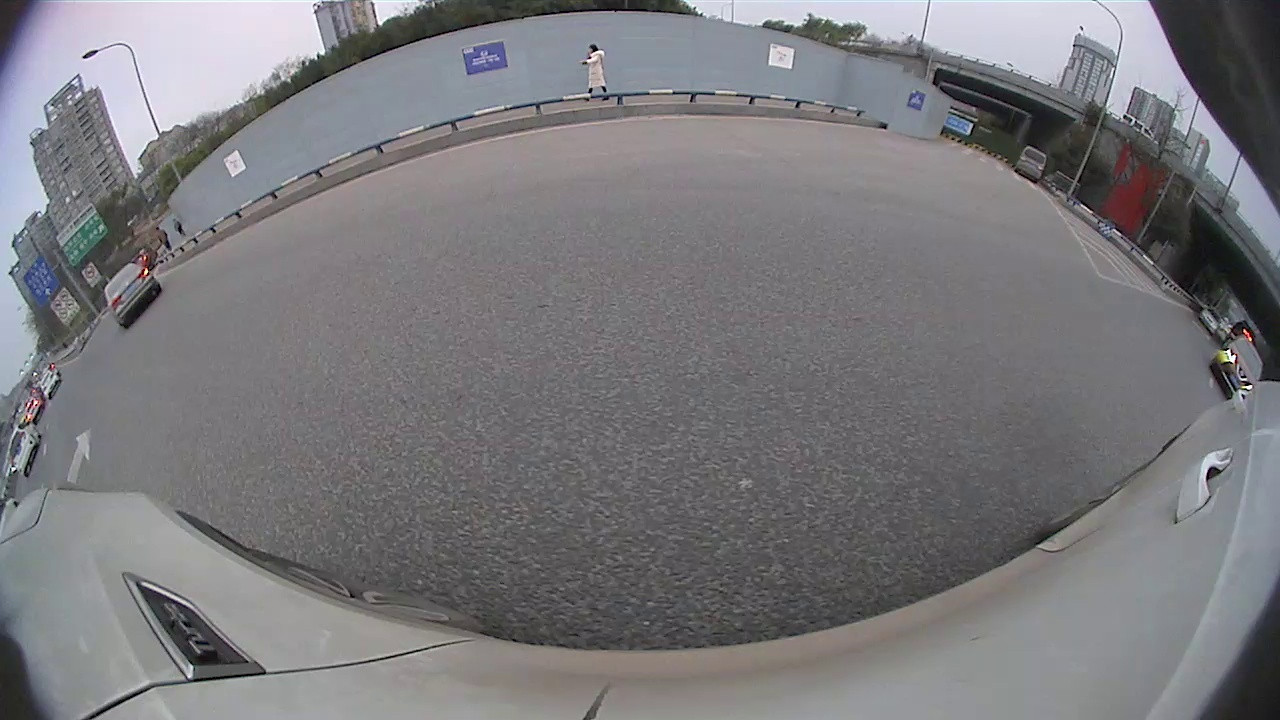car: (102, 260, 164, 330), (1210, 333, 1264, 399), (6, 420, 43, 478), (1014, 143, 1049, 184), (38, 366, 64, 401), (1198, 305, 1223, 333)
person: (588, 44, 601, 91), (154, 227, 169, 252)
